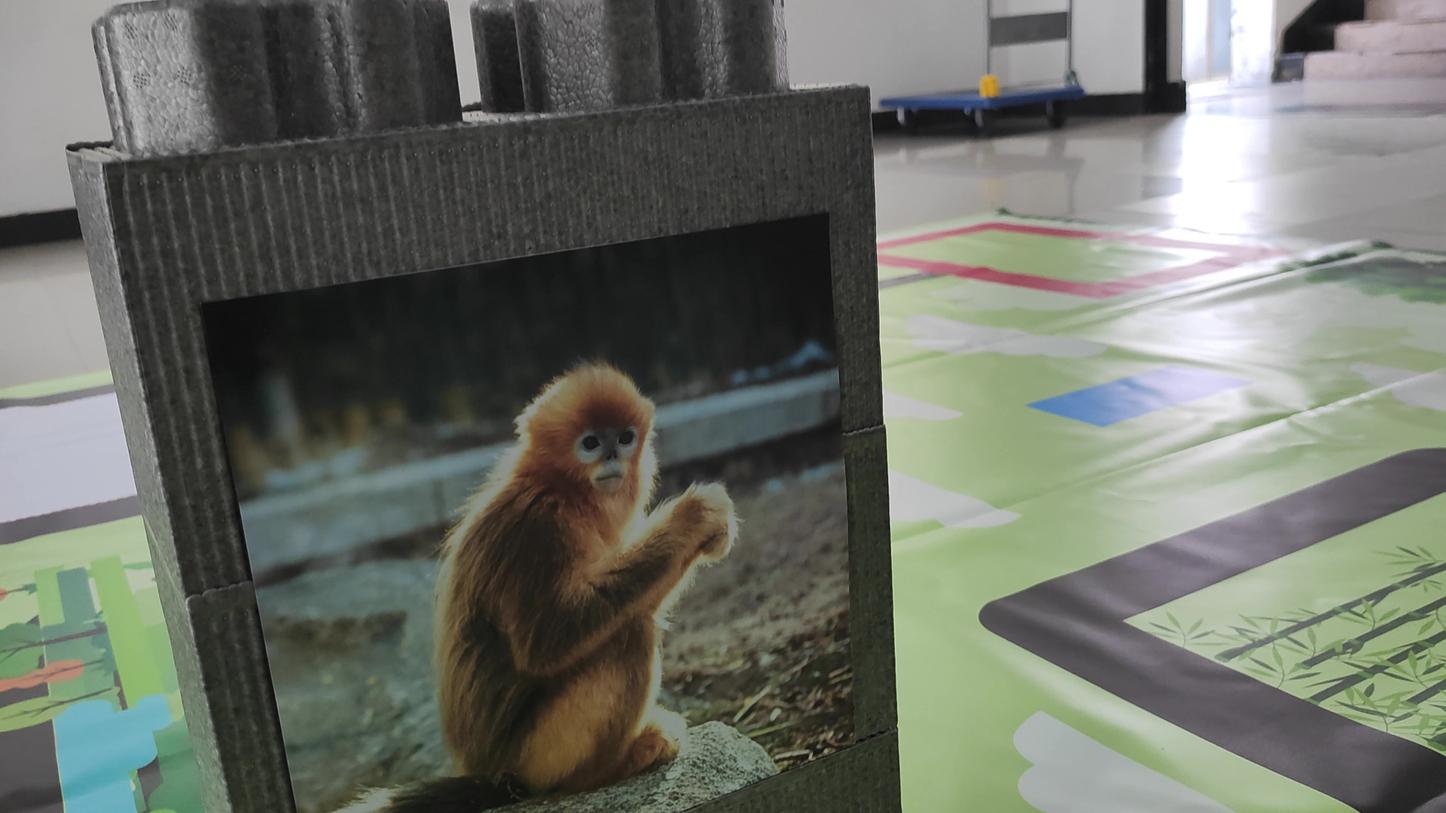monkey: (301, 342, 802, 813)
